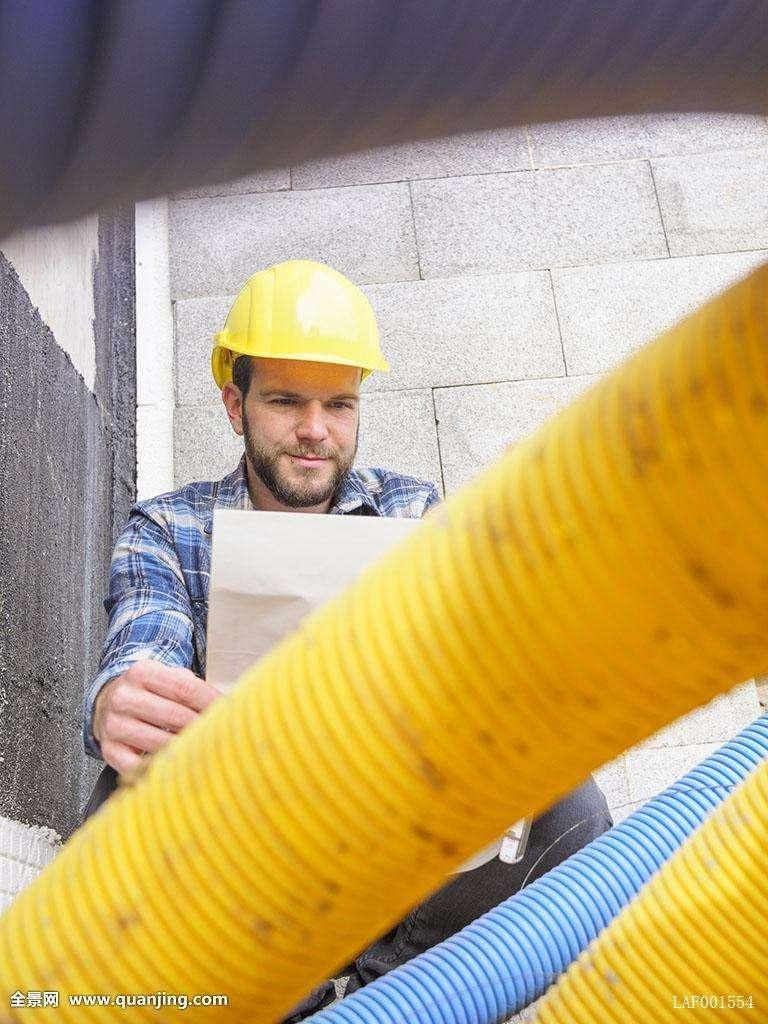helmet: (209, 260, 393, 494)
not_reflective: (79, 464, 473, 800)
